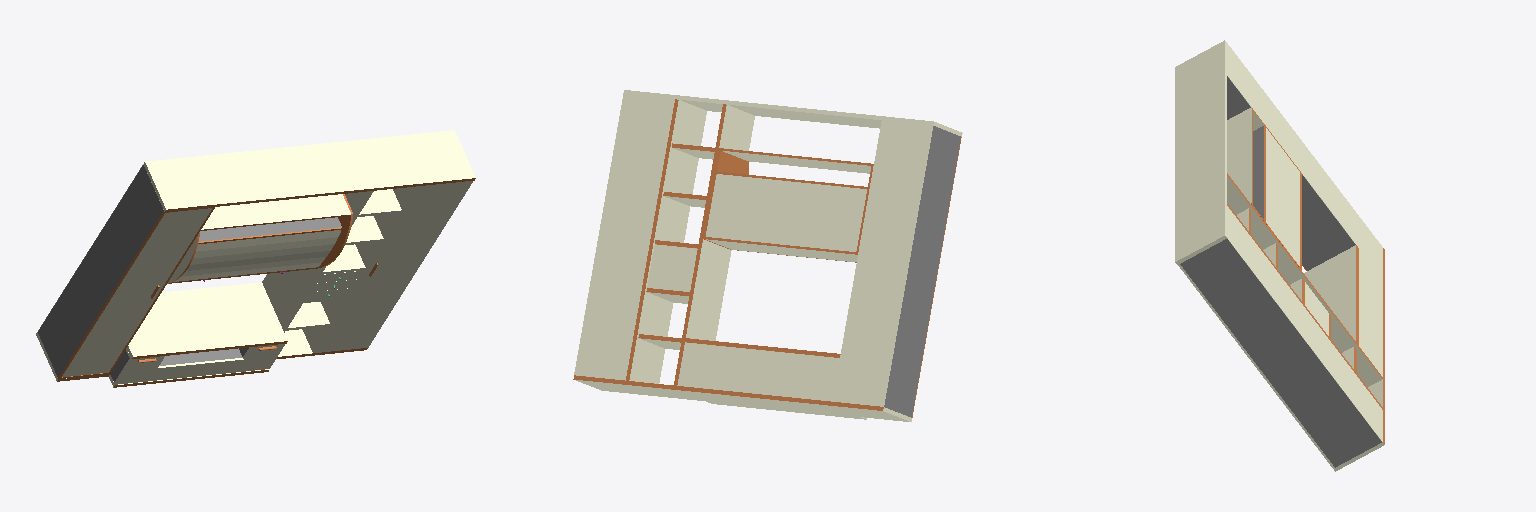
Rendered from yigui.obj.
3 renders of one model, left to right at view 1: azimuth 30°, elevation 25°; view 2: azimuth 150°, elevation 25°; view 3: azimuth 270°, elevation 25°, orthographic.
Parts seen in each view (by area): view 1: Object.1; view 2: Object.1; view 3: Object.1.
Boxes of the visible parts, x1,y1,x2,y2 form: Object.1: [36, 130, 475, 387]; Object.1: [573, 90, 962, 421]; Object.1: [1175, 40, 1384, 471].
Size of the model in its own units: 2959 by 2447 by 1570.